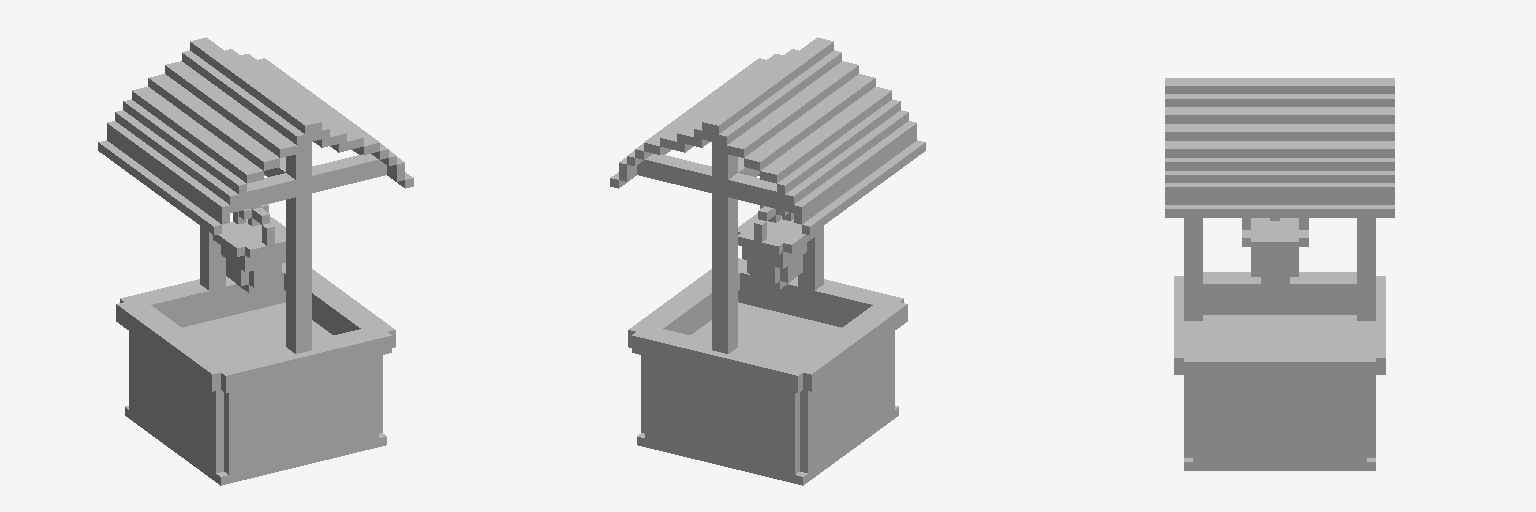
The model's file is Tarefa Poço-29.obj.
The picture shows the model from 3 angles: view 1: azimuth 30°, elevation 25°; view 2: azimuth 150°, elevation 25°; view 3: azimuth 270°, elevation 25°; orthographic projection.
Size of the model in its own units: 24 by 40 by 24.